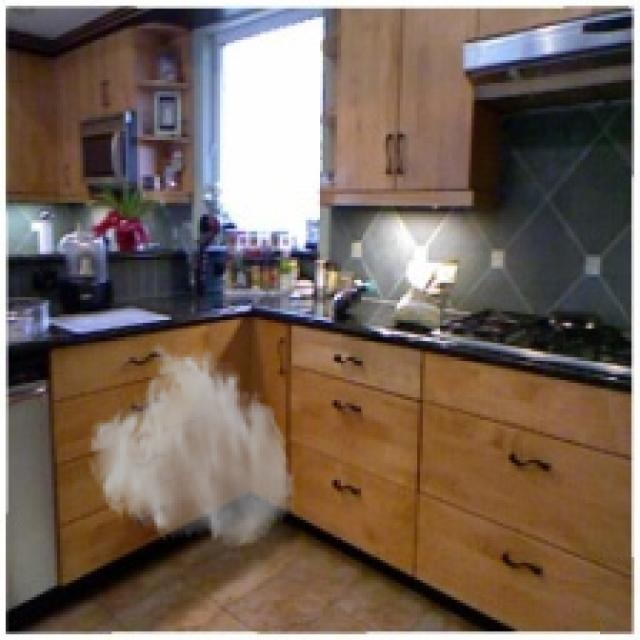smoke: (86, 340, 297, 551)
